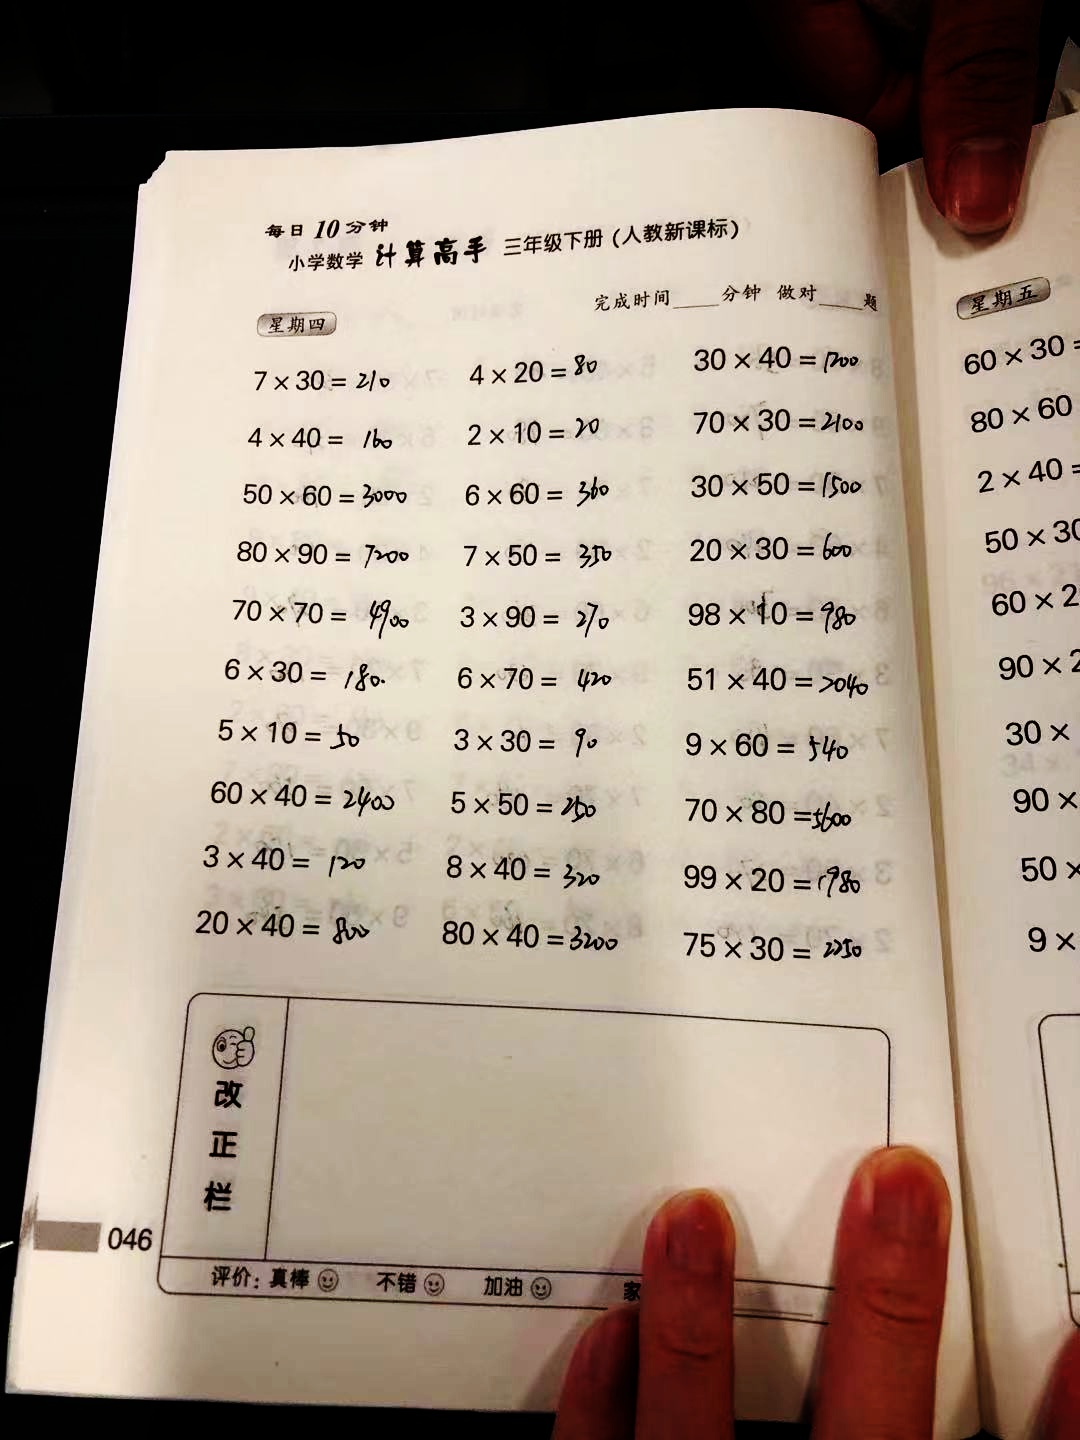equation: (193, 833, 381, 892), (665, 859, 887, 907), (202, 772, 413, 822), (217, 593, 431, 642), (208, 650, 407, 702), (439, 776, 614, 835), (673, 592, 876, 641), (670, 924, 871, 973), (674, 659, 881, 705), (676, 788, 864, 839), (670, 525, 874, 570), (228, 535, 441, 578), (431, 915, 644, 958), (236, 353, 422, 399), (436, 713, 617, 761), (673, 728, 868, 772), (217, 472, 416, 515), (433, 848, 611, 895), (188, 908, 385, 950), (464, 350, 633, 398), (680, 467, 881, 507), (206, 715, 371, 762), (442, 657, 617, 698), (448, 475, 631, 515), (680, 405, 870, 441), (687, 344, 864, 382), (454, 535, 625, 575), (459, 413, 625, 454), (237, 422, 407, 461), (452, 596, 619, 636)
